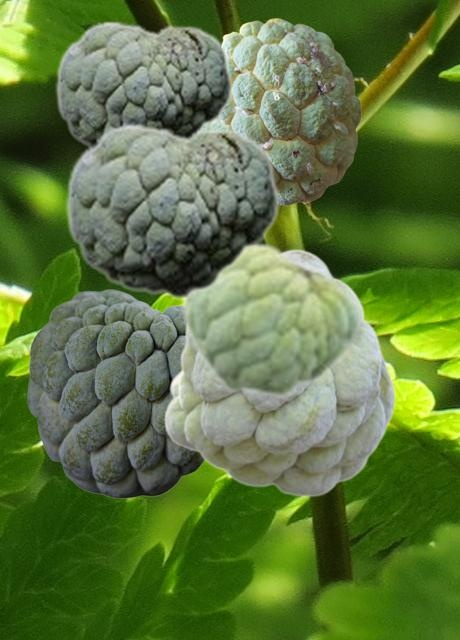atis: (163, 248, 395, 496), (65, 122, 279, 299), (27, 289, 204, 497), (180, 239, 362, 399), (206, 18, 360, 204), (55, 20, 232, 146)
